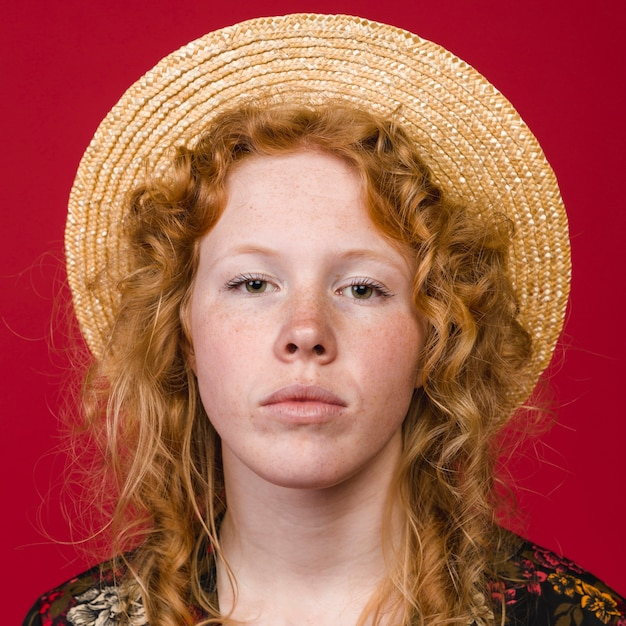teen: (85, 62, 550, 518)
